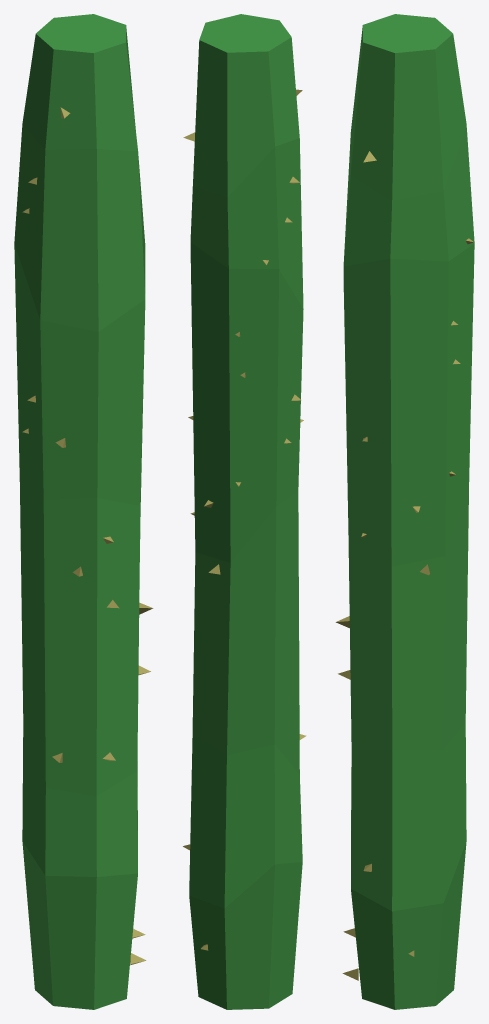
The model's file is Cactus_1_Light_Green.fbx.
3 renders of one model, left to right at view 1: azimuth 90°, elevation 25°; view 2: azimuth 210°, elevation 25°; view 3: azimuth 270°, elevation 25°, orthographic.
Visible parts, largest first — view 1: Cactus_1_Light_Green; view 2: Cactus_1_Light_Green; view 3: Cactus_1_Light_Green.
Boxes of the visible parts, <box> form: Cactus_1_Light_Green: <box>14,14,153,1009</box>; Cactus_1_Light_Green: <box>183,14,306,1009</box>; Cactus_1_Light_Green: <box>335,14,474,1009</box>.
Bounding box in the file's own units: 28.33 × 260 × 34.32.
